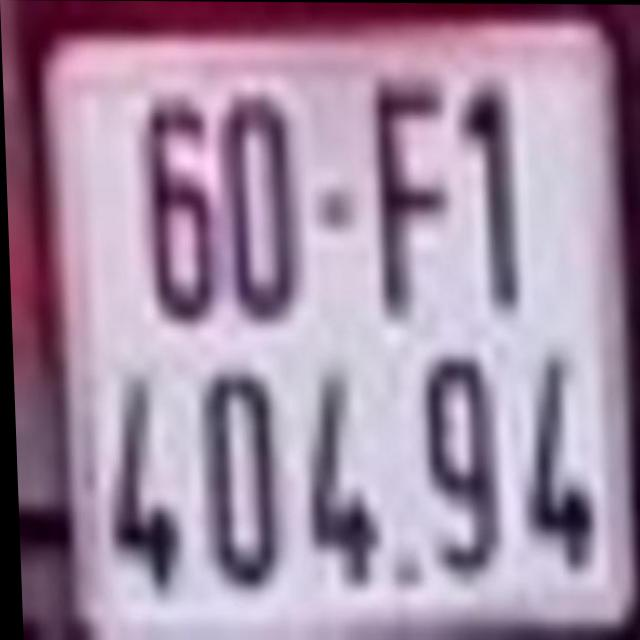0: (218, 90, 298, 316), (207, 366, 276, 582)
1: (460, 87, 540, 321)
4: (300, 360, 380, 591), (101, 369, 182, 590), (522, 346, 595, 567)
6: (140, 91, 211, 325)
9: (406, 340, 504, 576)
F: (367, 82, 455, 317)
